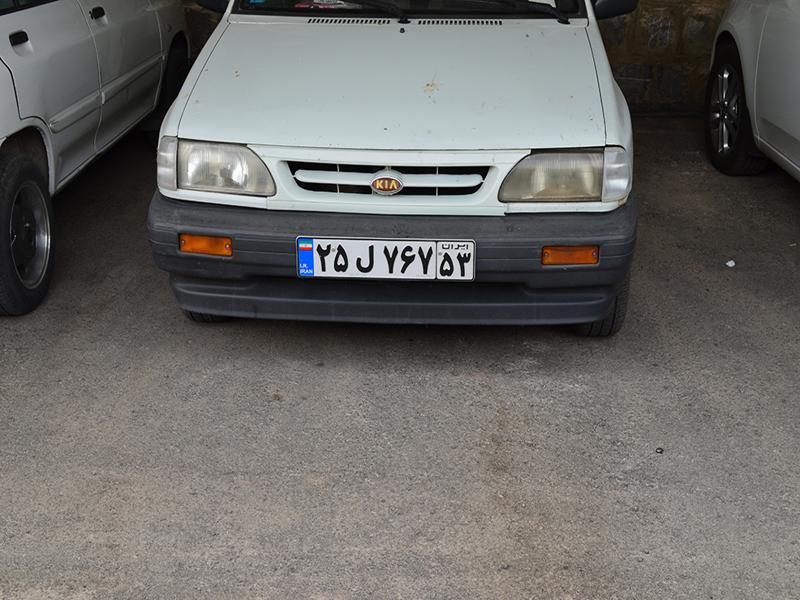Plate: (299, 234, 481, 281)
